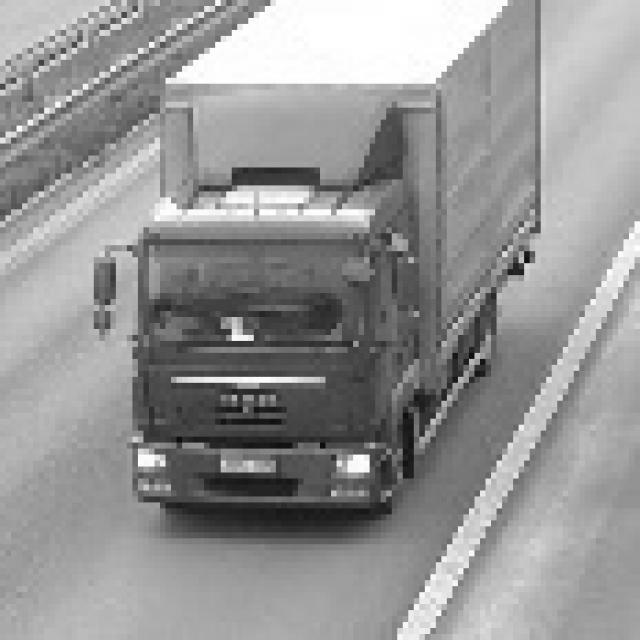truck: (76, 160, 449, 523)
